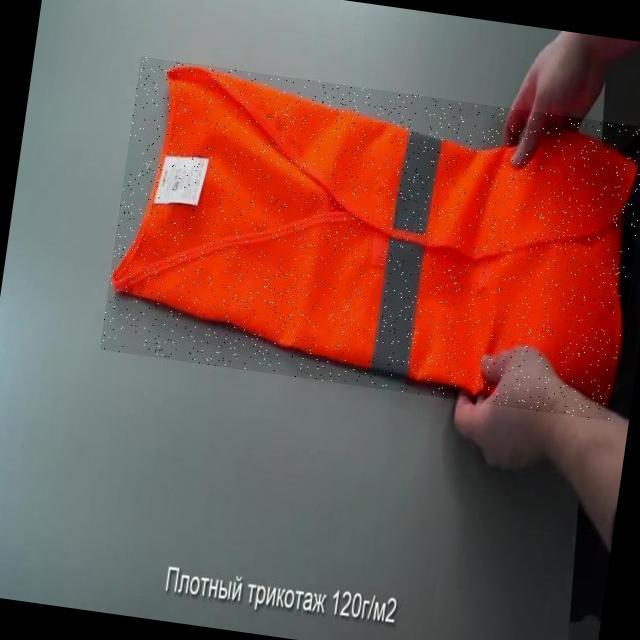Safety Vest: (100, 56, 640, 421)
bare-arms: (448, 337, 610, 488), (498, 19, 628, 178)
